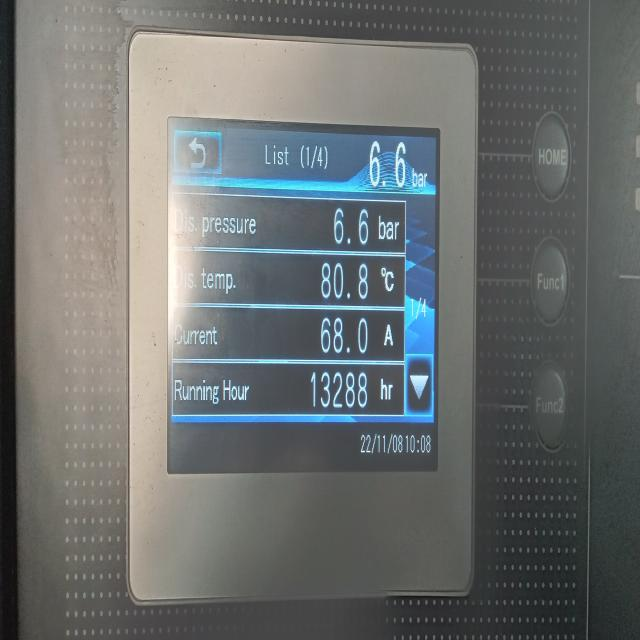display: (168, 119, 440, 473)
frame: (308, 367, 370, 411), (369, 133, 408, 197), (318, 258, 370, 302), (317, 314, 370, 357), (332, 202, 371, 252), (360, 428, 403, 461), (405, 432, 432, 457), (303, 141, 324, 170)
gauge: (16, 0, 590, 640)
